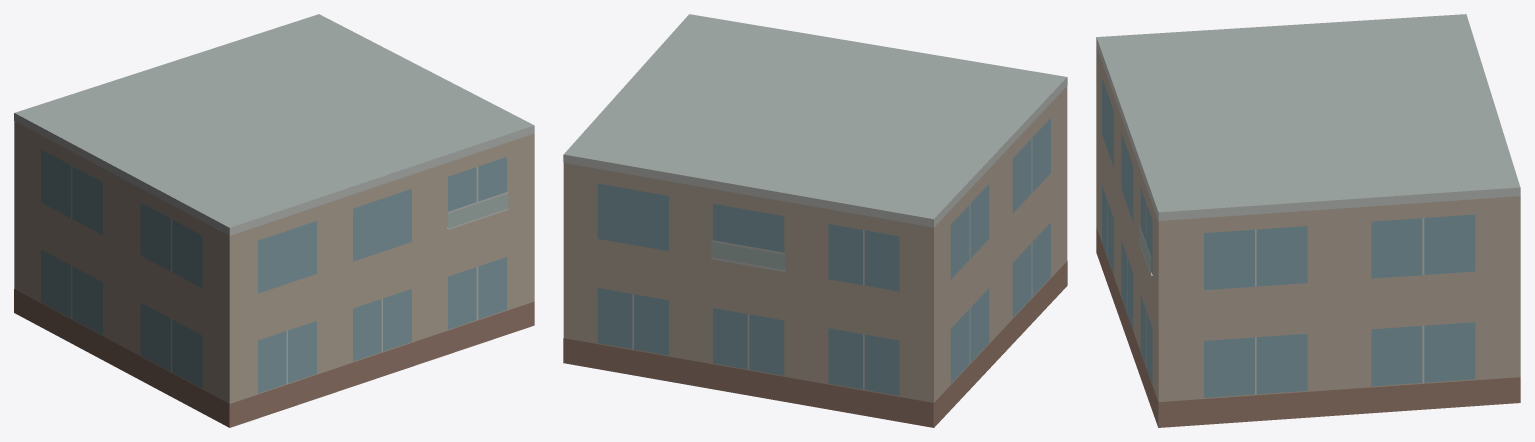
File: survey-upis-32789719.glb
The picture shows the model from 3 angles, left to right: view 1: azimuth 30°, elevation 25°; view 2: azimuth 150°, elevation 25°; view 3: azimuth 270°, elevation 25°; orthographic projection. The views are drawn at different scales.
Parts seen in each view (by area): view 1: survey-upis-32789719.tmp; view 2: survey-upis-32789719.tmp; view 3: survey-upis-32789719.tmp.
Boxes of the visible parts, left/top/right/bottom form: survey-upis-32789719.tmp: left=14, top=14, right=534, bottom=427; survey-upis-32789719.tmp: left=563, top=14, right=1067, bottom=427; survey-upis-32789719.tmp: left=1096, top=14, right=1520, bottom=427.
Bounding box in the file's own units: 12.06 × 6.1 × 10.9.
